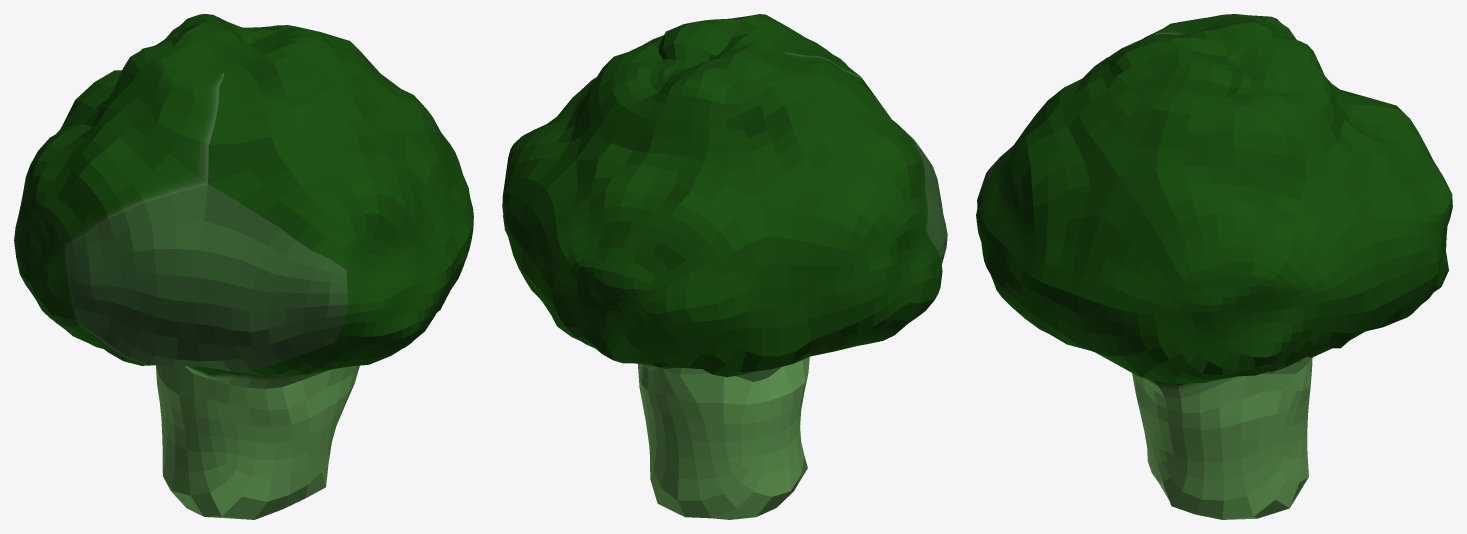
File: broccoli.glb
3 renders of one model, left to right at view 1: azimuth 30°, elevation 25°; view 2: azimuth 150°, elevation 25°; view 3: azimuth 270°, elevation 25°, orthographic. The views are drawn at different scales.
Parts seen in each view (by area): view 1: Cube; view 2: Cube; view 3: Cube.
Part boxes in pixels (bbox=[...]): Cube: bbox=[14, 14, 473, 519]; Cube: bbox=[502, 14, 947, 519]; Cube: bbox=[976, 14, 1452, 519].
Size of the model in its own units: 4.82 by 5.38 by 4.93.
1 material, 1 textured.
